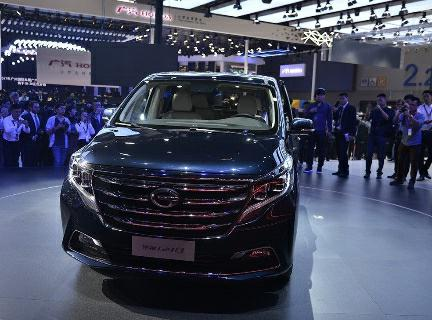广汽传祺-传祺GM8: (58, 69, 304, 282)
